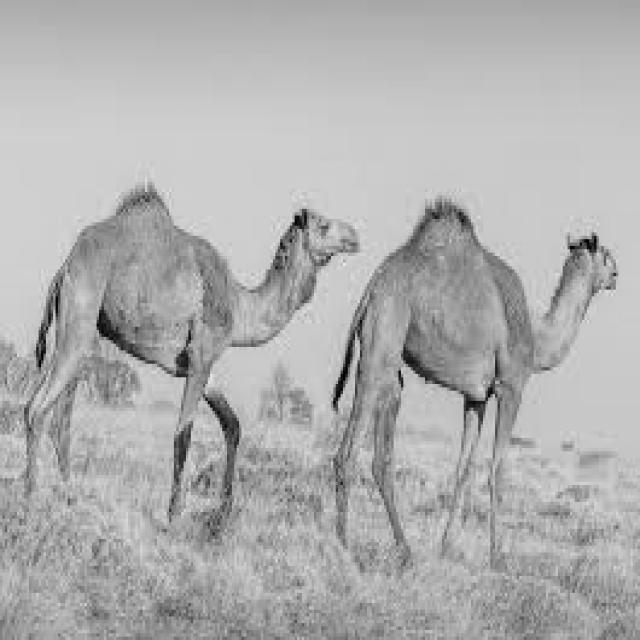Camel: (19, 182, 360, 542), (328, 192, 618, 576)
